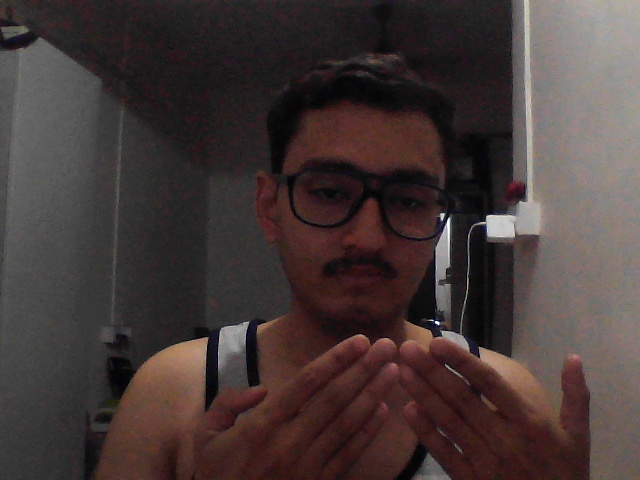Thank You: (176, 334, 616, 480)
